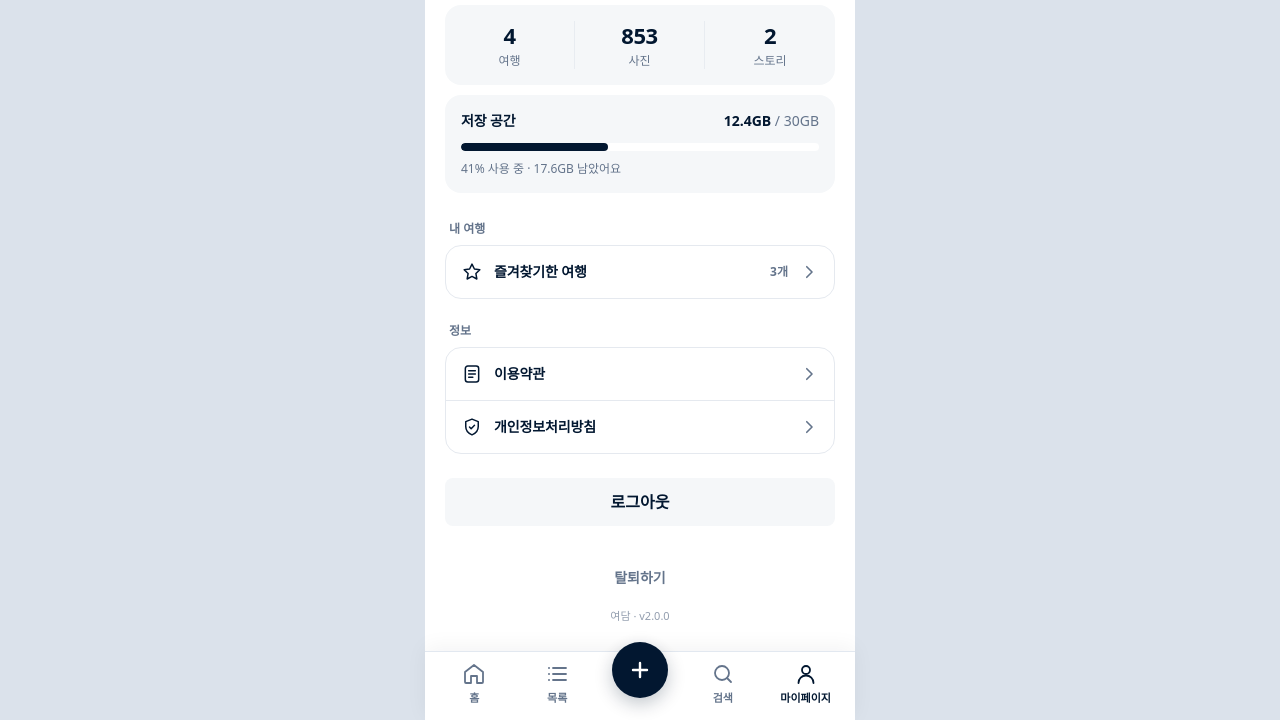
Test: MyPage › 탈퇴하기를 누르면 확인 다이얼로그를 먼저 띄운다
(page scrolled)
Click the button "탈퇴하기" at (640, 578), box [598,558,682,598]
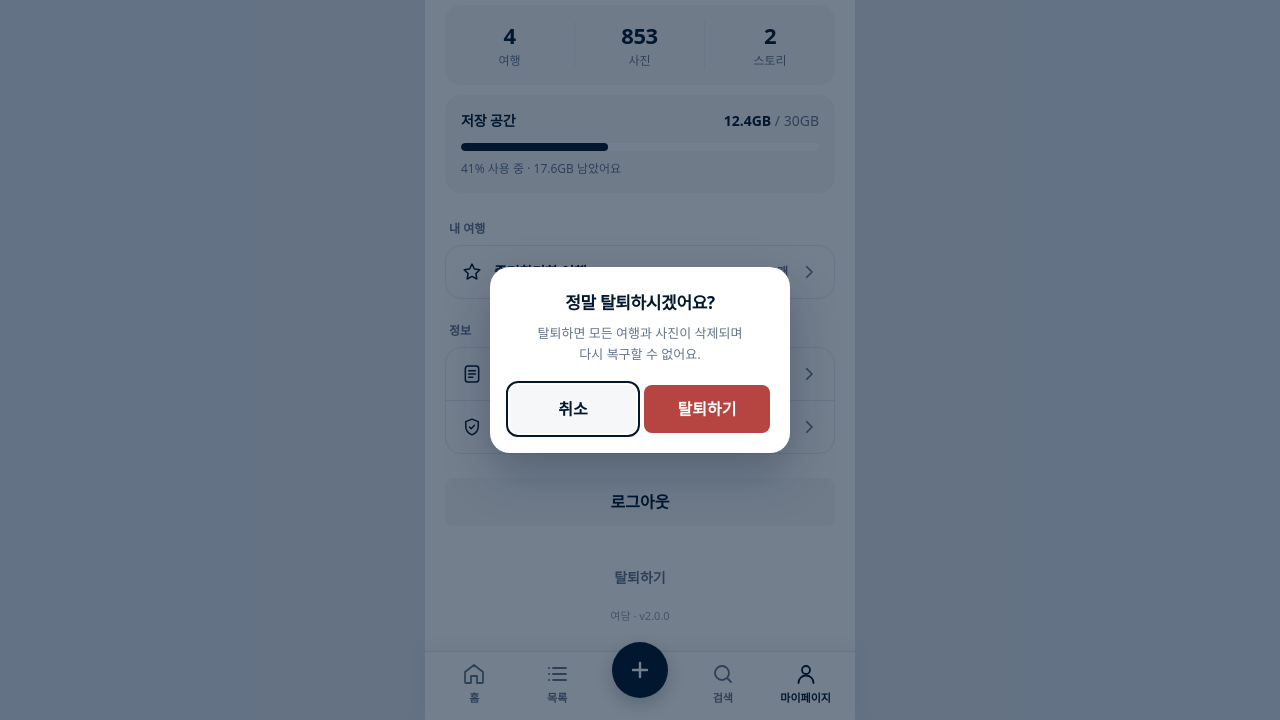
Now the dialog "정말 탈퇴하시겠어요?" is shown, box [490,267,790,453]
Click the button "취소" at (573, 409), box [510,385,636,433]
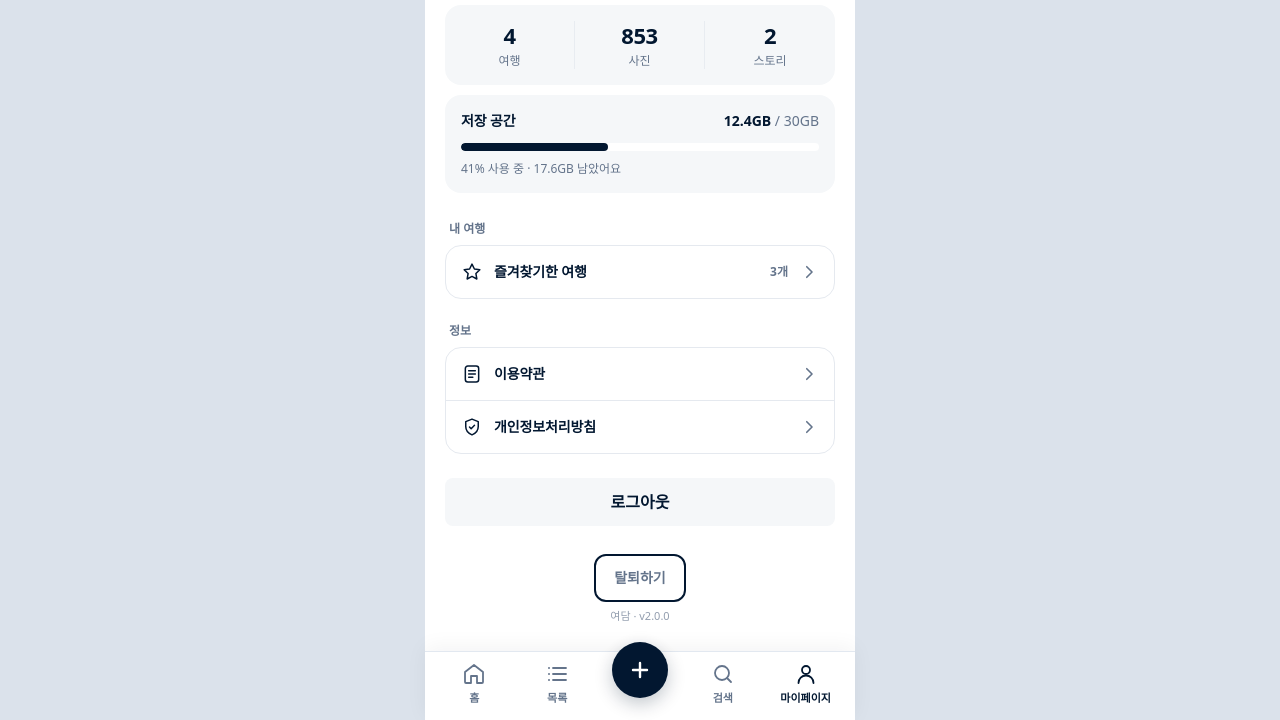
Now the dialog is gone
